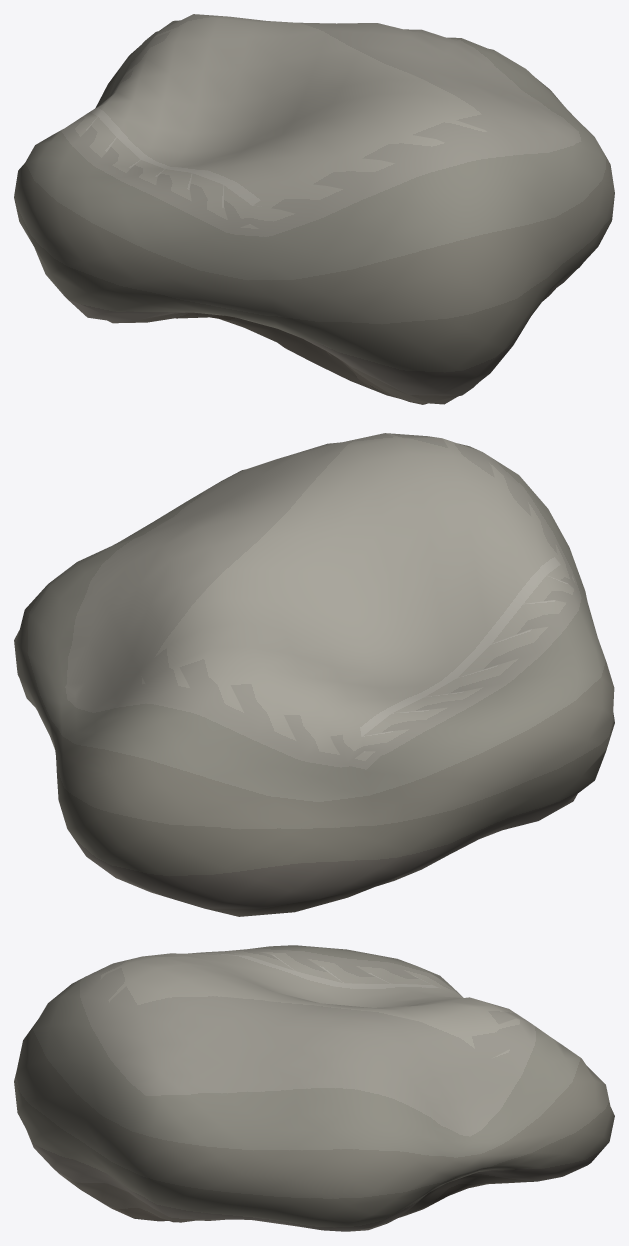
Rendered from DL_Obj_Level5_MineRock7.fbx.
The picture shows the model from 3 angles, top to bottom: view 1: azimuth 30°, elevation 25°; view 2: azimuth 150°, elevation 25°; view 3: azimuth 270°, elevation 25°; orthographic projection. The views are drawn at different scales.
Parts seen in each view (by area): view 1: Level5_MineRock07; view 2: Level5_MineRock07; view 3: Level5_MineRock07.
Part boxes in pixels (x1,y1,x2,y2): Level5_MineRock07: (14,14,614,404); Level5_MineRock07: (14,433,614,916); Level5_MineRock07: (14,945,614,1231).
Bounding box in the file's own units: 215 × 114 × 254.
